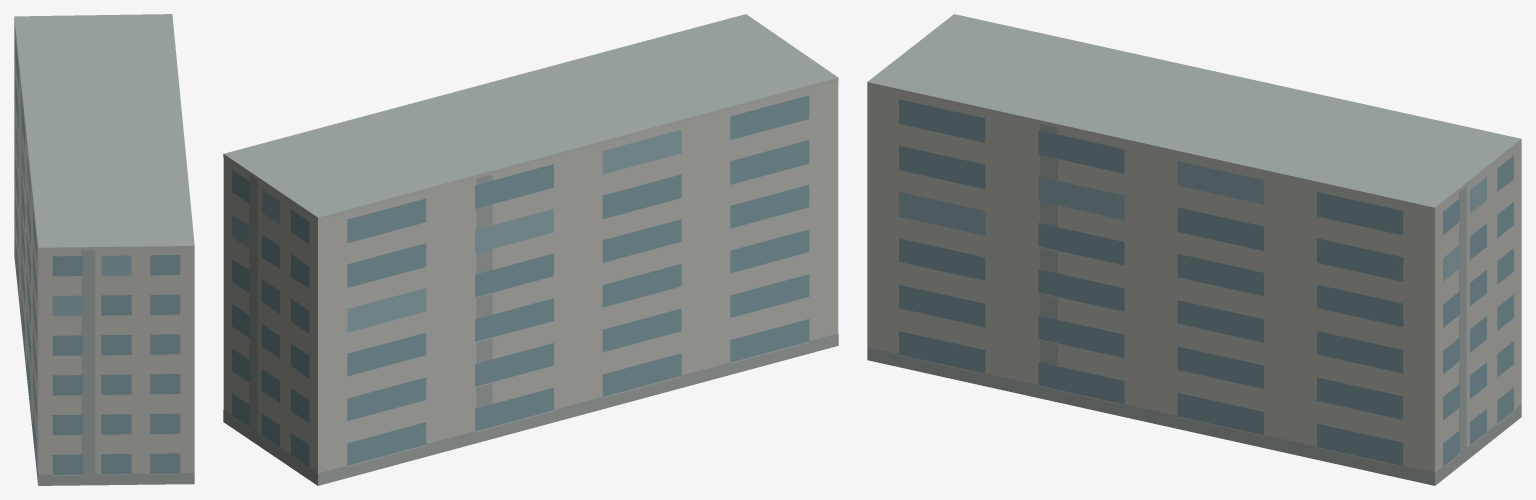
Rendered from survey-upis-32977435.glb.
3 views of the same model, side by side, from view 1: azimuth 30°, elevation 25°; view 2: azimuth 150°, elevation 25°; view 3: azimuth 270°, elevation 25° (orthographic). The views are drawn at different scales.
Visible parts, largest first — view 1: survey-upis-32977435.tmp; view 2: survey-upis-32977435.tmp; view 3: survey-upis-32977435.tmp.
Boxes of the visible parts, x1,y1,x2,y2 form: survey-upis-32977435.tmp: (14,14,194,485); survey-upis-32977435.tmp: (223,14,838,485); survey-upis-32977435.tmp: (867,14,1521,485).
Bounding box in the file's own units: 27.35 × 18.3 × 39.03.
